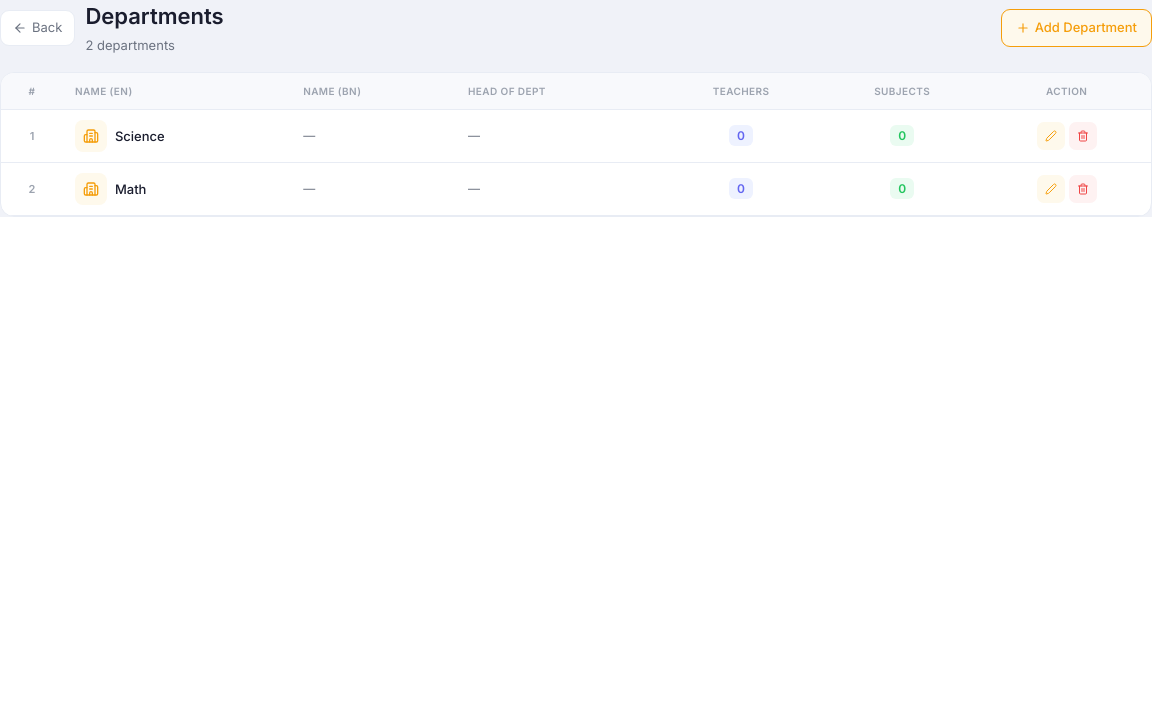
Test: DepartmentsPage — Phase 7 server flows › create posts to the API without schoolId (server derives tenant) and inserts the response row
The width and height of the screenshot is (1152, 720).
Click the button "Add Department" at (1076, 28), box left=1001, top=9, right=1151, bottom=46
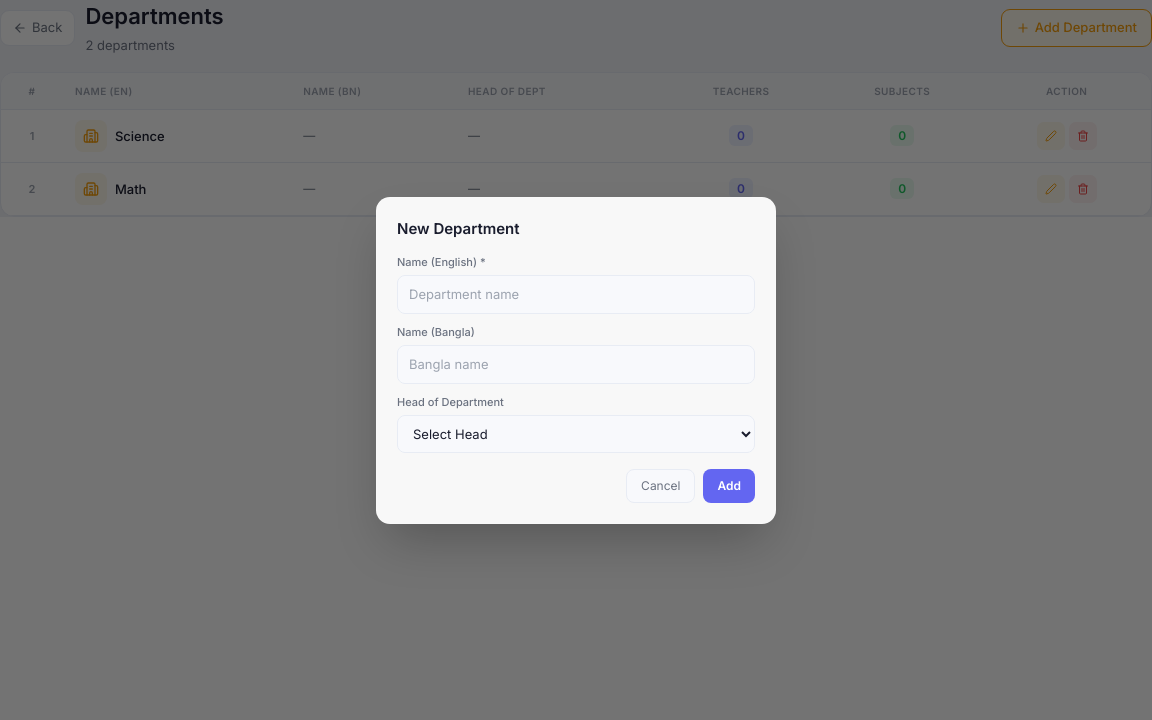
Type "Chemistry" into the field with placeholder "Department name" at (576, 294), box left=397, top=274, right=755, bottom=314
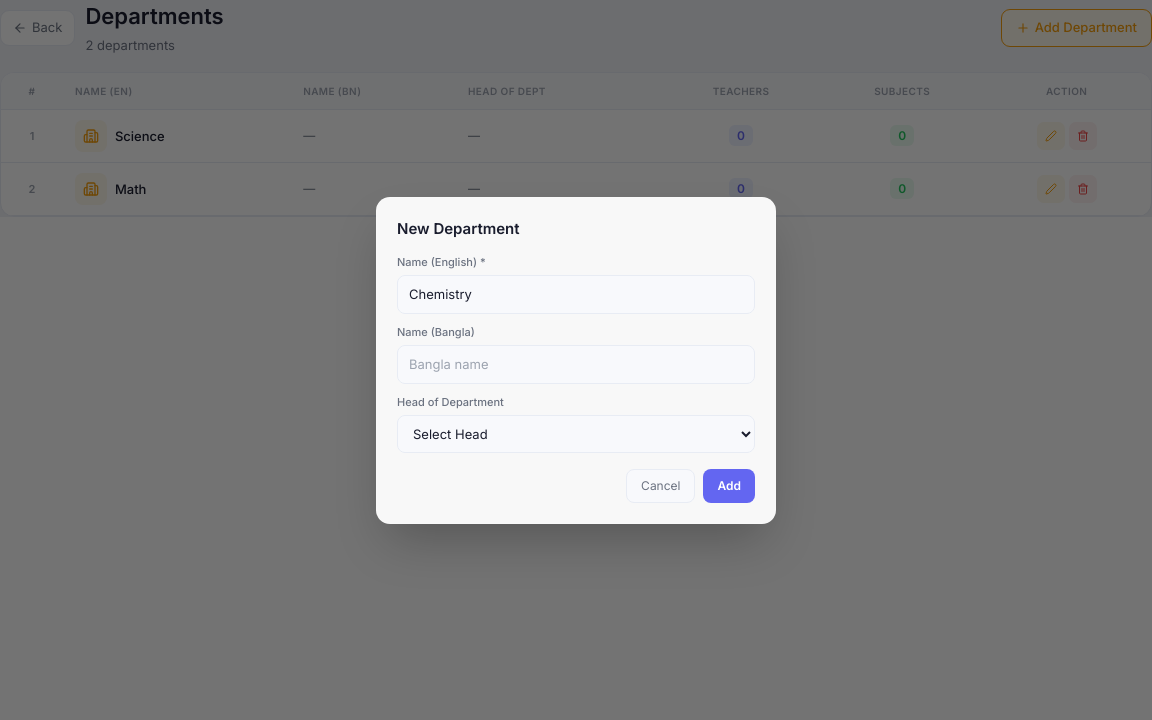
Click the button "Add" at (729, 486), box left=704, top=468, right=755, bottom=502
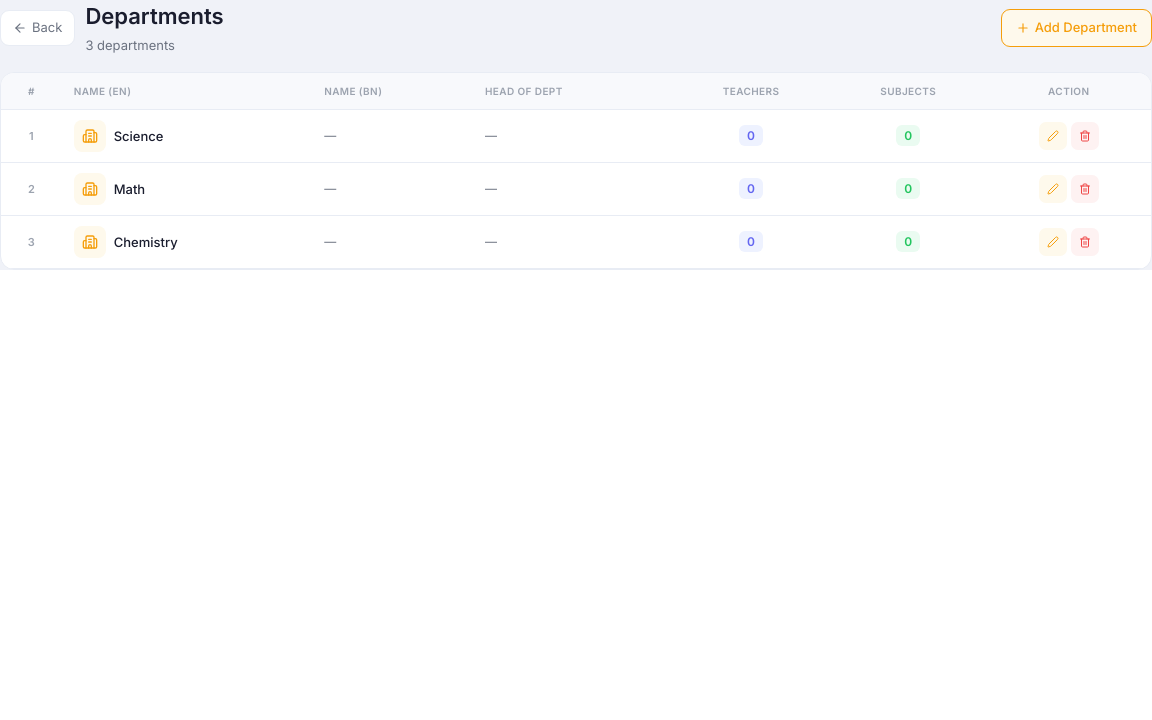
Check: the text "Chemistry" is shown, box left=114, top=234, right=178, bottom=250
